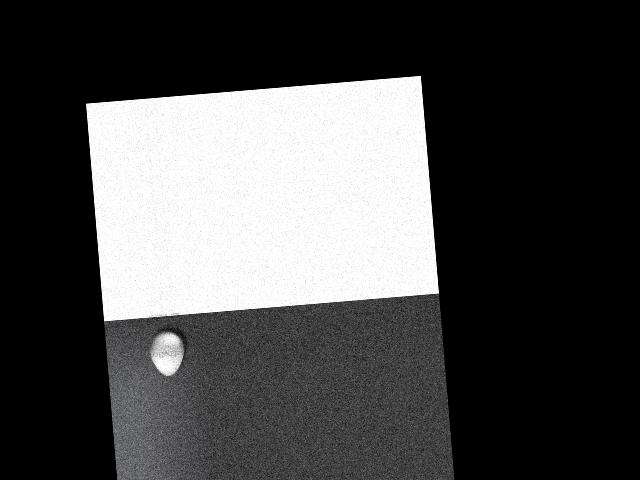egg: (148, 330, 186, 377)
